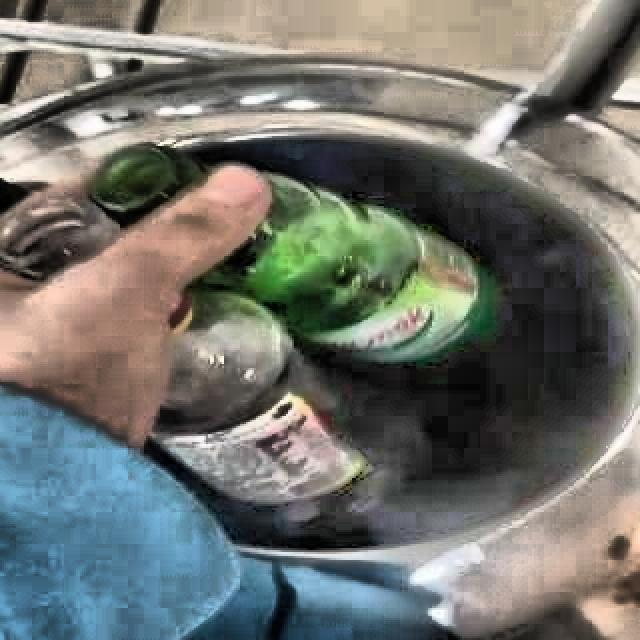glass: (152, 174, 485, 519), (0, 146, 208, 280)
